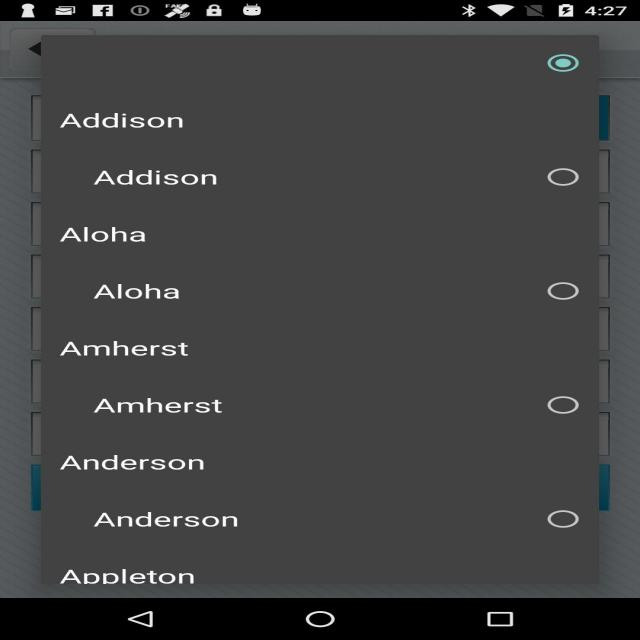button: (529, 47, 612, 563)
text: (42, 79, 382, 593)
